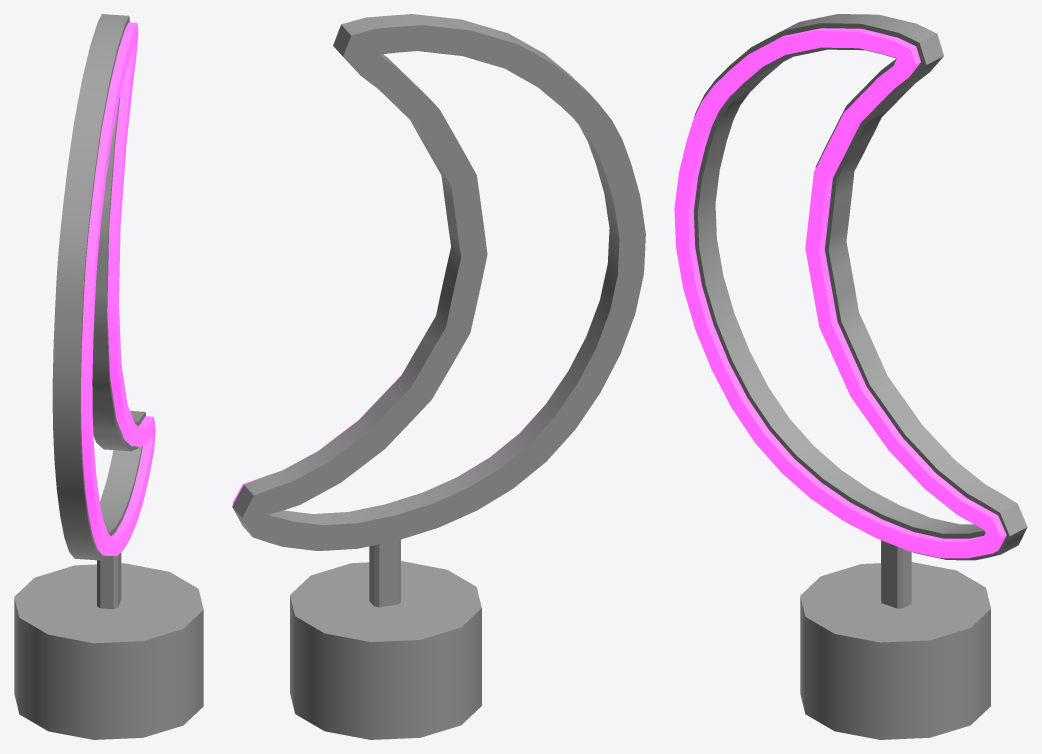
The model's file is Neon Lamp (UV Corrected).fbx.
3 views of the same model, side by side, from view 1: azimuth 30°, elevation 25°; view 2: azimuth 150°, elevation 25°; view 3: azimuth 270°, elevation 25° (orthographic).
Parts seen in each view (by area): view 1: Moon; view 2: Moon; view 3: Moon.
Part boxes in pixels (x1,y1,x2,y2): Moon: (14, 14, 203, 739); Moon: (232, 14, 645, 739); Moon: (674, 14, 1027, 739).
Size of the model in its own units: 167 by 419 by 198.
